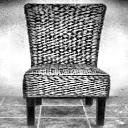chair_success: (17, 1, 117, 128)
